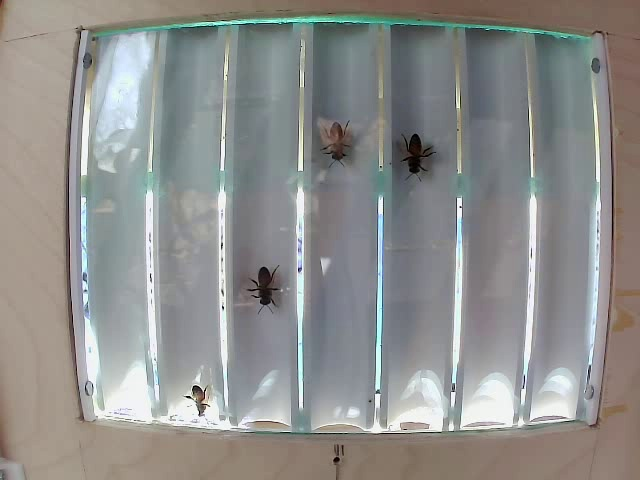bee: (243, 263, 295, 315), (320, 116, 353, 179), (404, 137, 427, 186)
